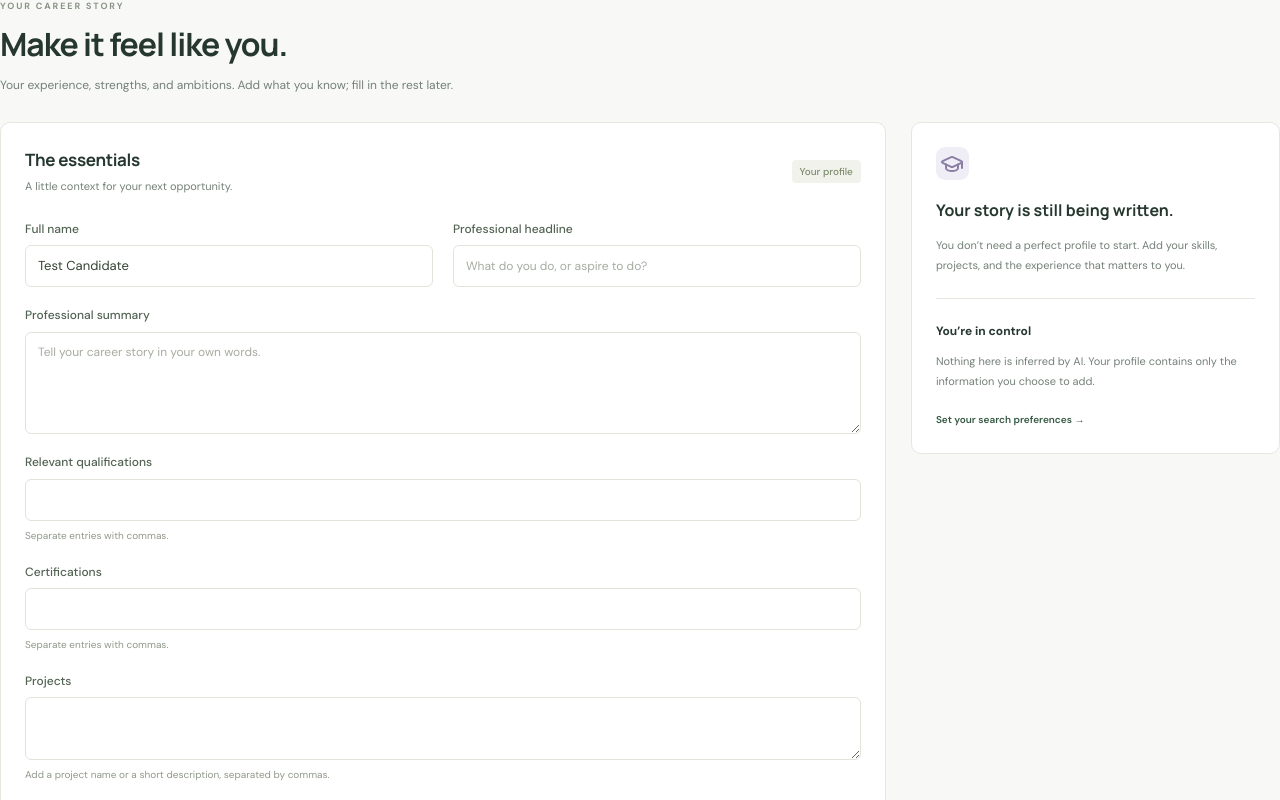
Test case: workspace UI with explicitly mocked HTTP › saves profile fields through a validated API response
Type "AI Builder" into the field labelled "Professional headline" at (657, 266), box 453,245 -> 861,287
(page scrolled)
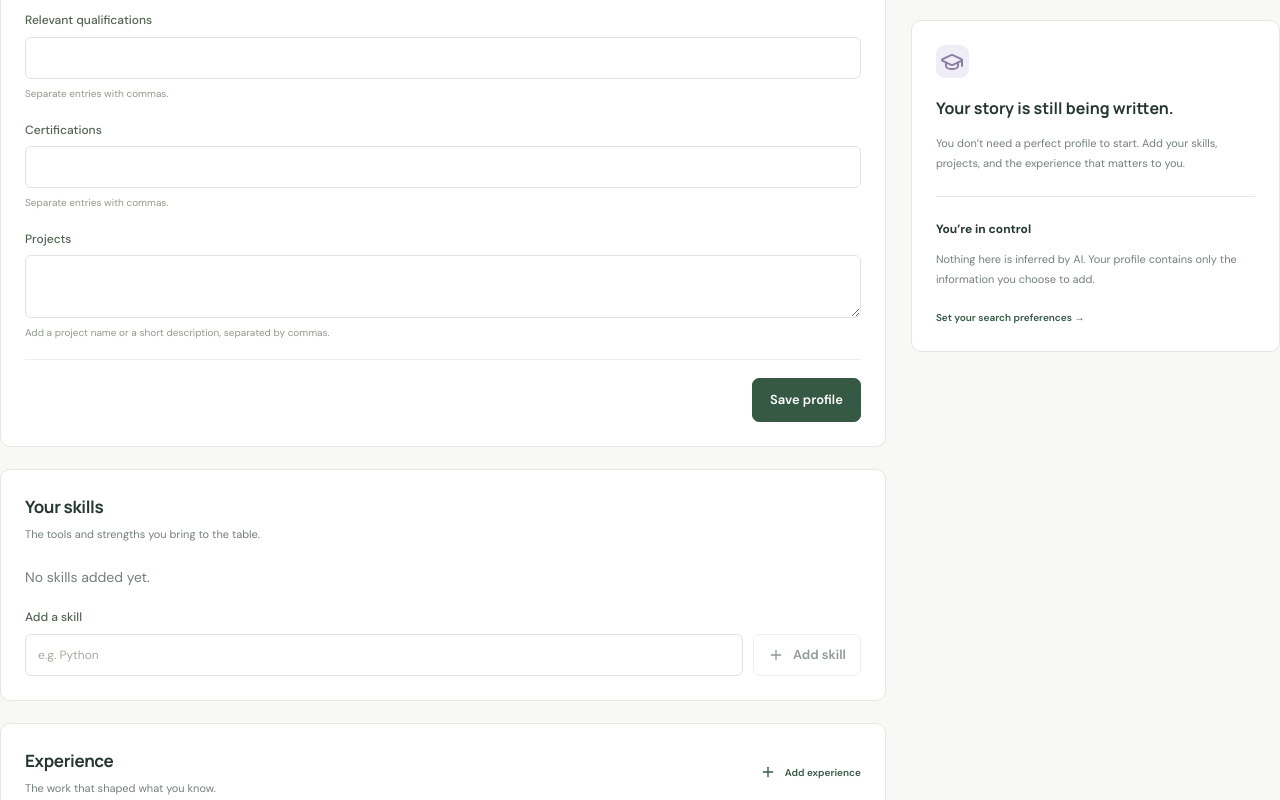
Click the button "Save profile" at (806, 400), box 752,378 -> 861,422
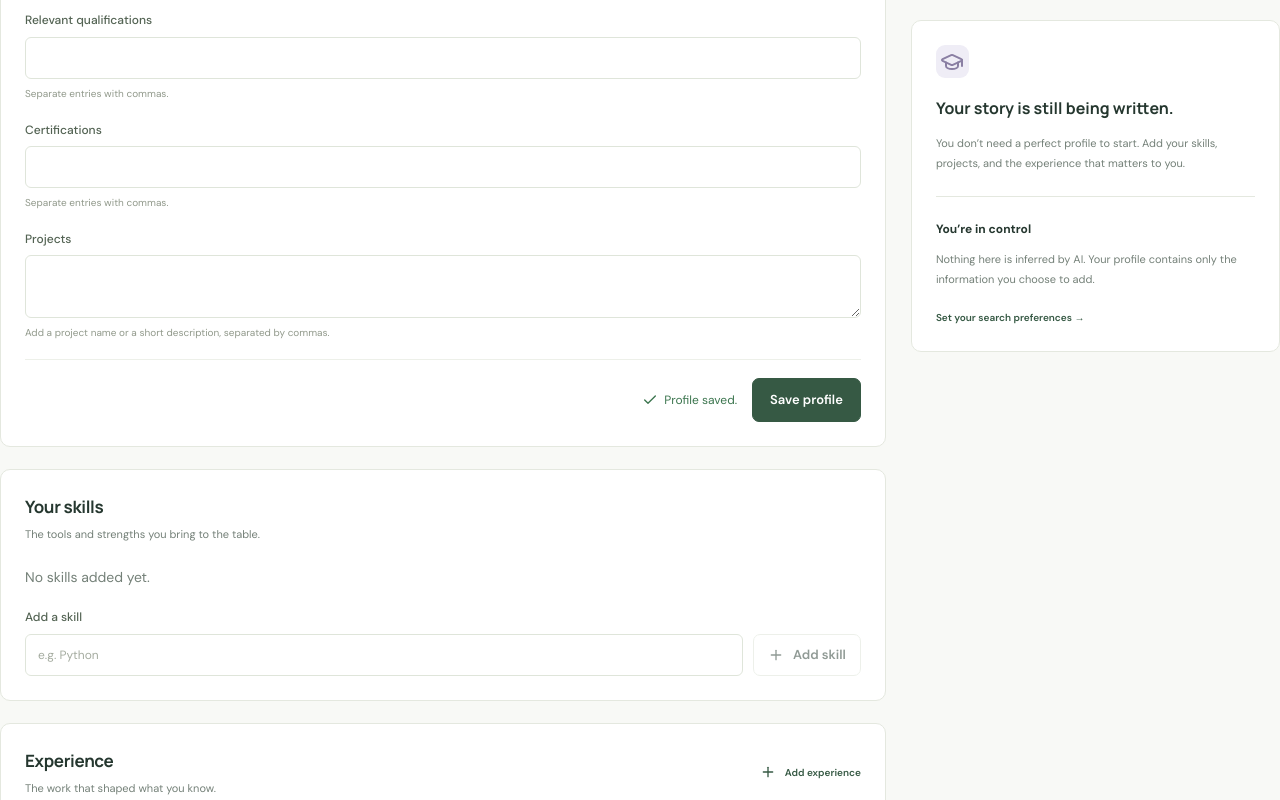
Check: the text "Profile saved." is shown, box 642,391 -> 737,410
